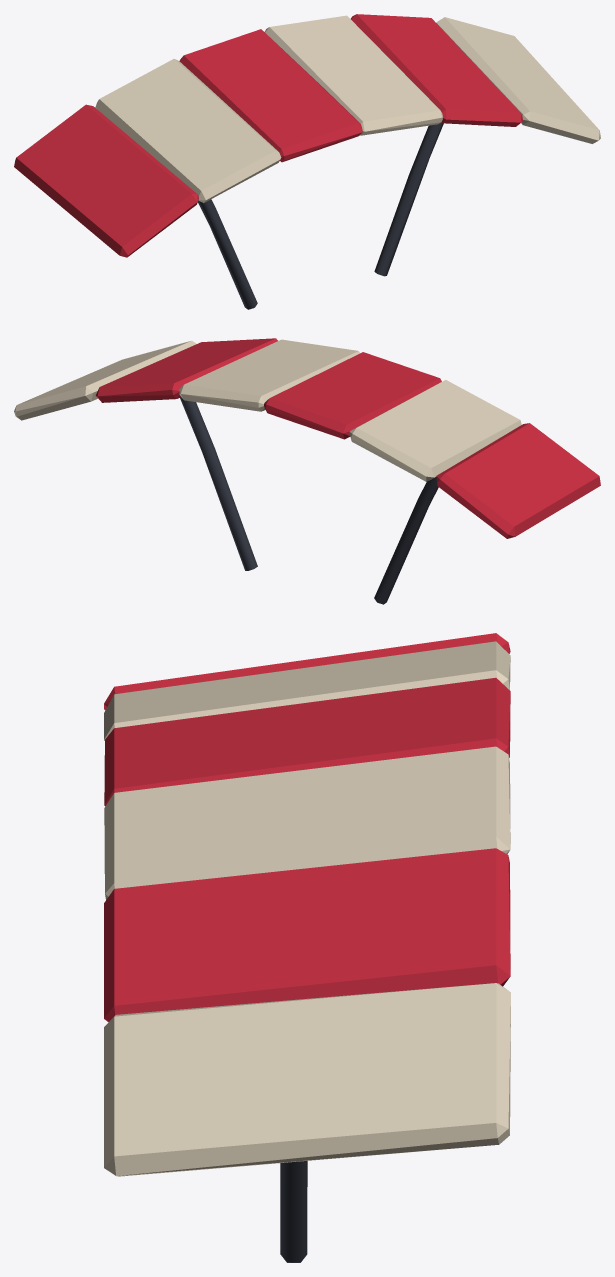
The model's file is glider.glb.
3 renders of one model, top to bottom at view 1: azimuth 30°, elevation 25°; view 2: azimuth 150°, elevation 25°; view 3: azimuth 270°, elevation 25°, orthographic. The views are drawn at different scales.
Visible parts, largest first — view 1: glider; view 2: glider; view 3: glider.
Boxes of the visible parts, box(x1,y1,x2,y2) form: glider: box(14, 14, 600, 309); glider: box(14, 338, 600, 604); glider: box(104, 633, 510, 1262).
Bounding box in the file's own units: 4.26 × 1.84 × 1.5.
